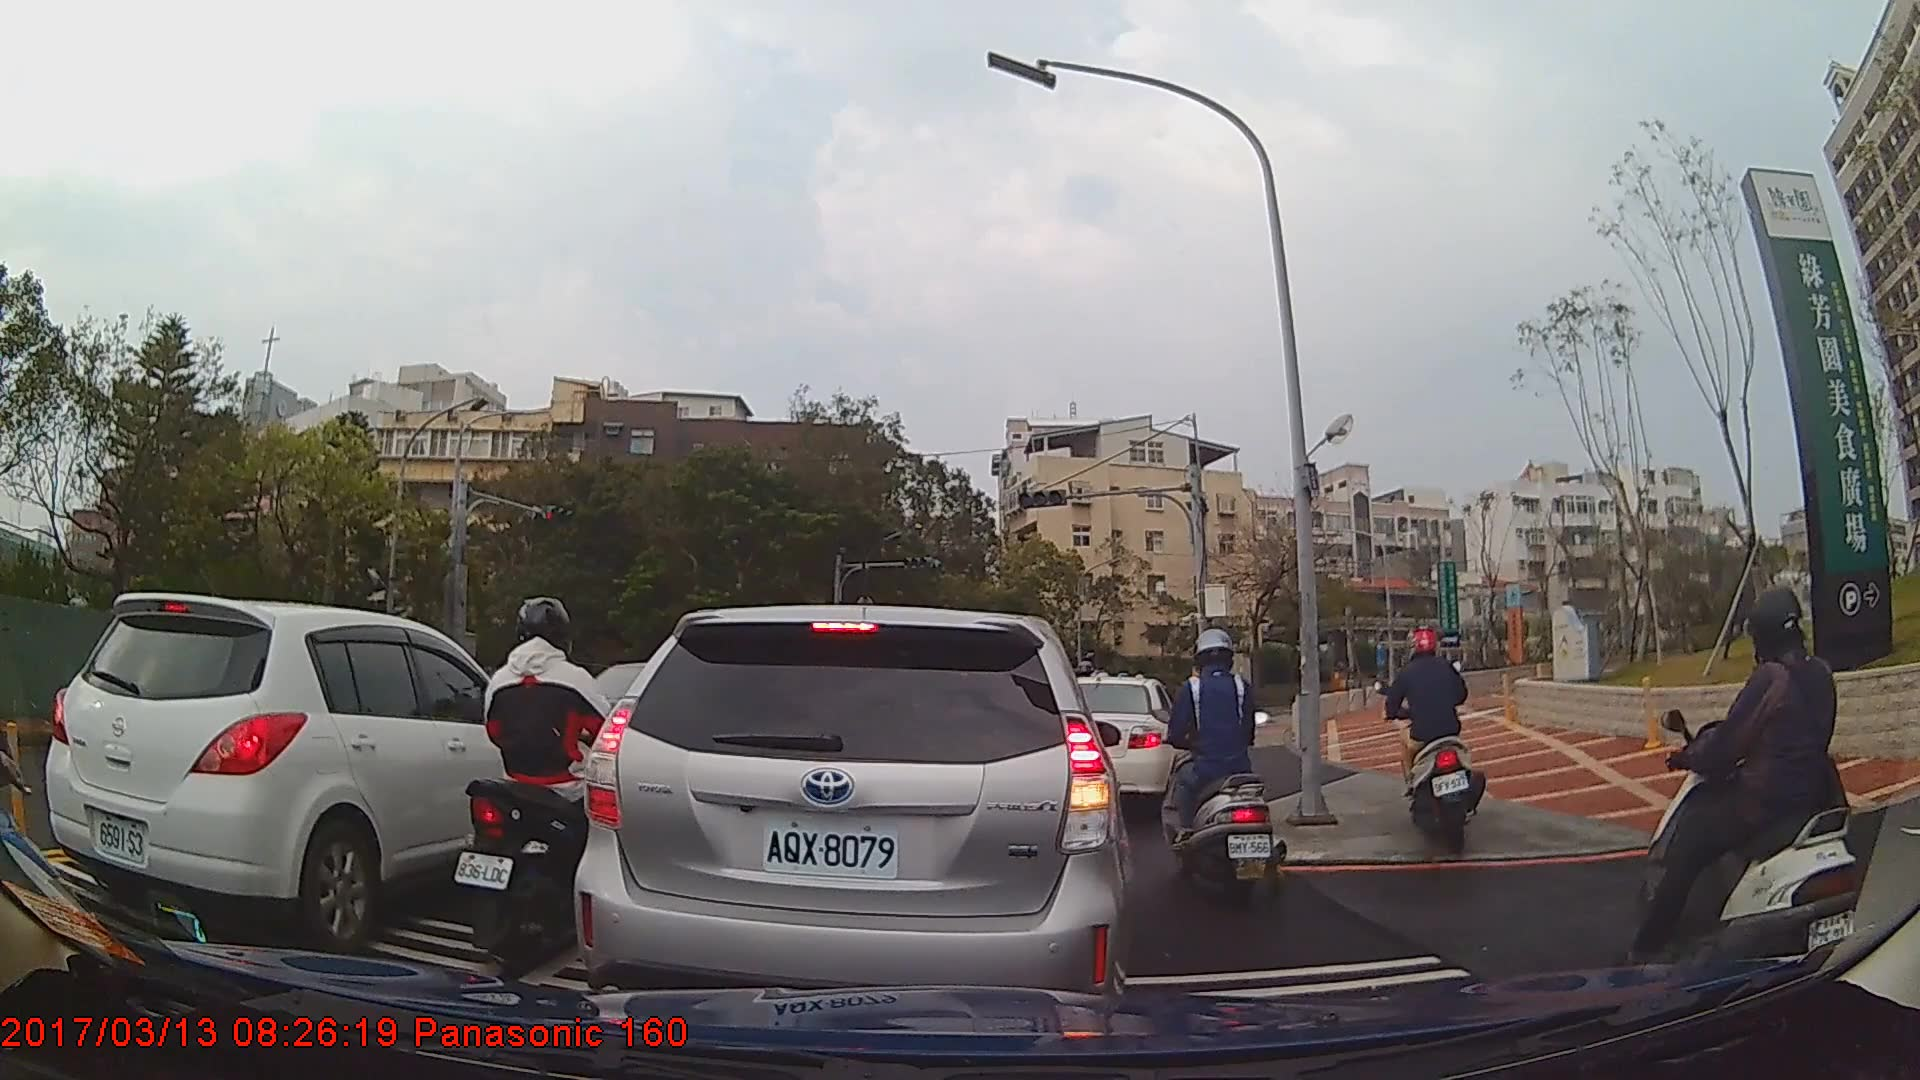rider: (1620, 579, 1866, 1000), (456, 594, 650, 972), (1154, 626, 1285, 905), (1380, 625, 1491, 845)
vehicle: (573, 602, 1132, 1024), (41, 591, 584, 953), (1059, 672, 1192, 810)
